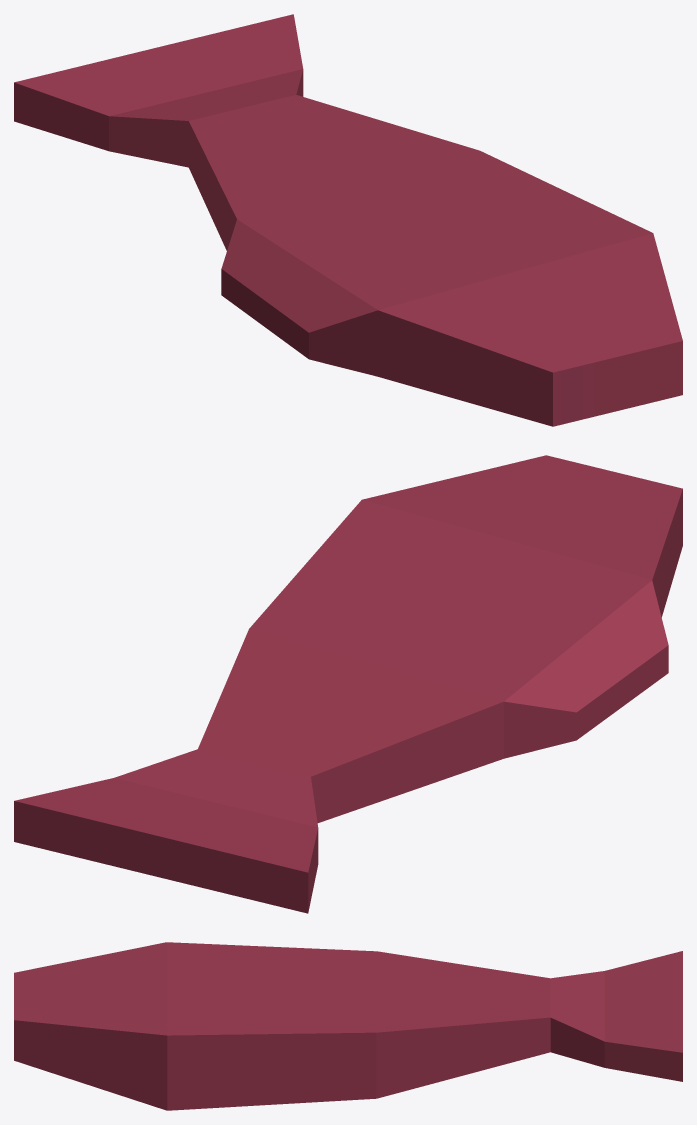
Rendered from fish.fbx.
The picture shows the model from 3 angles, top to bottom: view 1: azimuth 30°, elevation 25°; view 2: azimuth 150°, elevation 25°; view 3: azimuth 270°, elevation 25°; orthographic projection. The views are drawn at different scales.
Parts seen in each view (by area): view 1: Cube; view 2: Cube; view 3: Cube.
Boxes of the visible parts, box(x1,y1,x2,y2) form: Cube: box(14, 14, 682, 426); Cube: box(14, 455, 682, 913); Cube: box(14, 942, 682, 1110).
Bounding box in the file's own units: 262 × 79.28 × 639.
